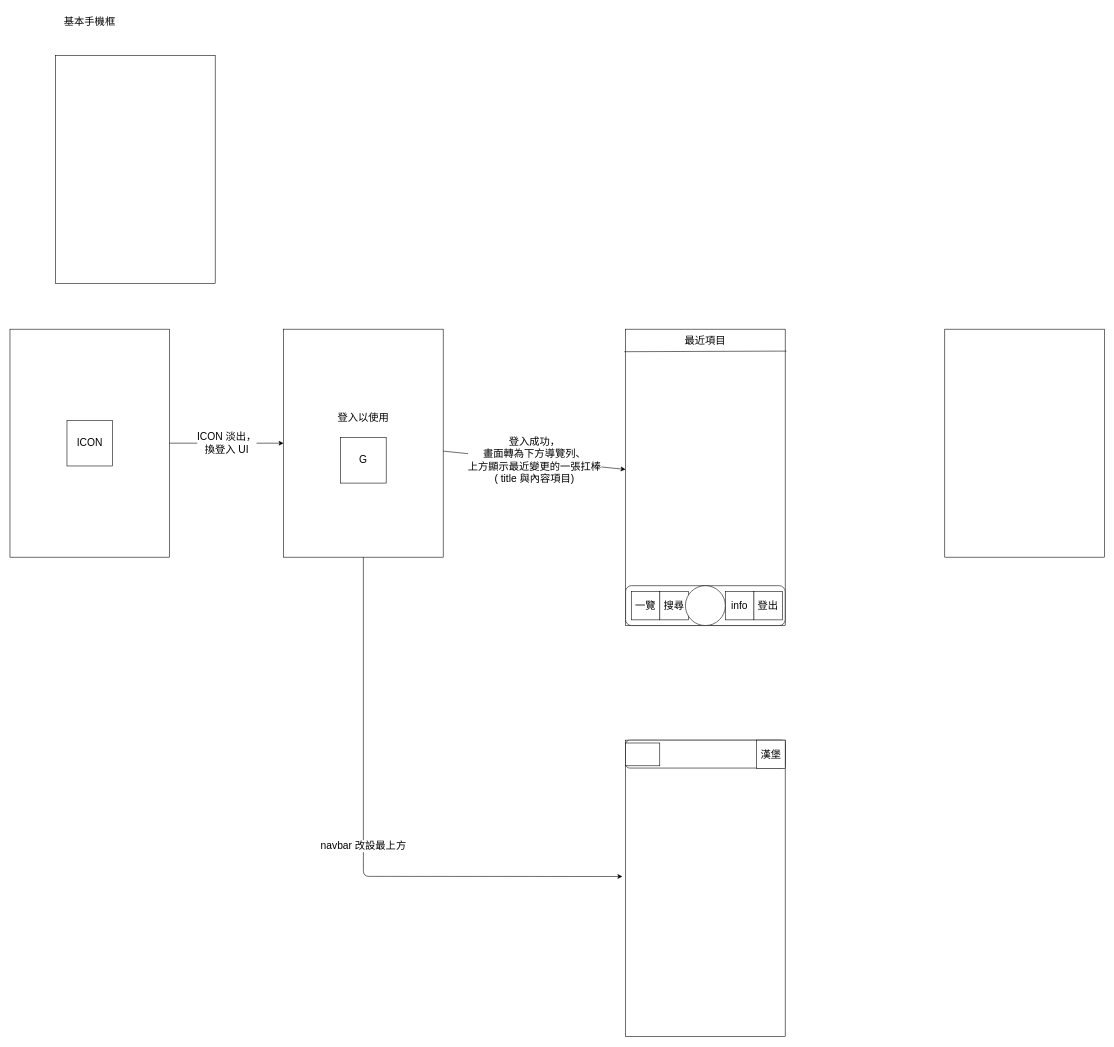
This 1114x1047 diagram has some shape labels left out. Each missing label, with the centre of its shape:
Logo: (642,754)
新增: (705,605)
